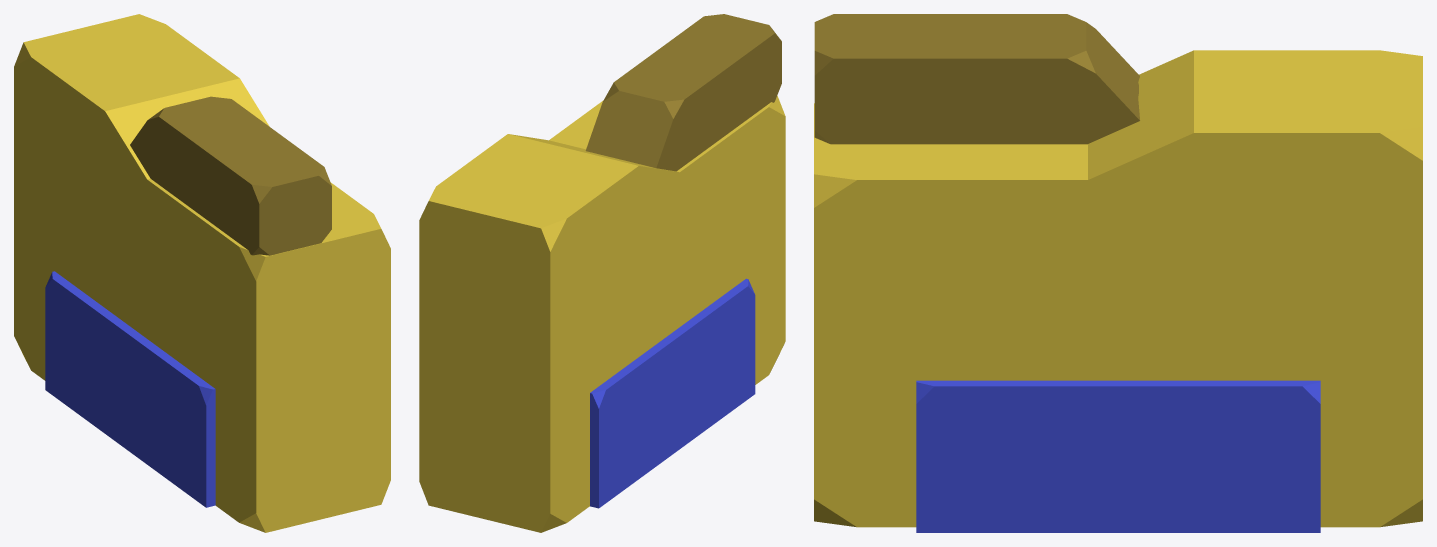
The picture shows the model from 3 angles, left to right: view 1: azimuth 30°, elevation 25°; view 2: azimuth 150°, elevation 25°; view 3: azimuth 270°, elevation 25°; orthographic projection. The views are drawn at different scales.
Visible parts, largest first — view 1: file1; view 2: file1; view 3: file1.
Part boxes in pixels (x1,y1,x2,y2): file1: (14,14,390,532); file1: (419,14,785,532); file1: (814,14,1422,532).
Bounding box in the file's own units: 102 × 219 × 280.
